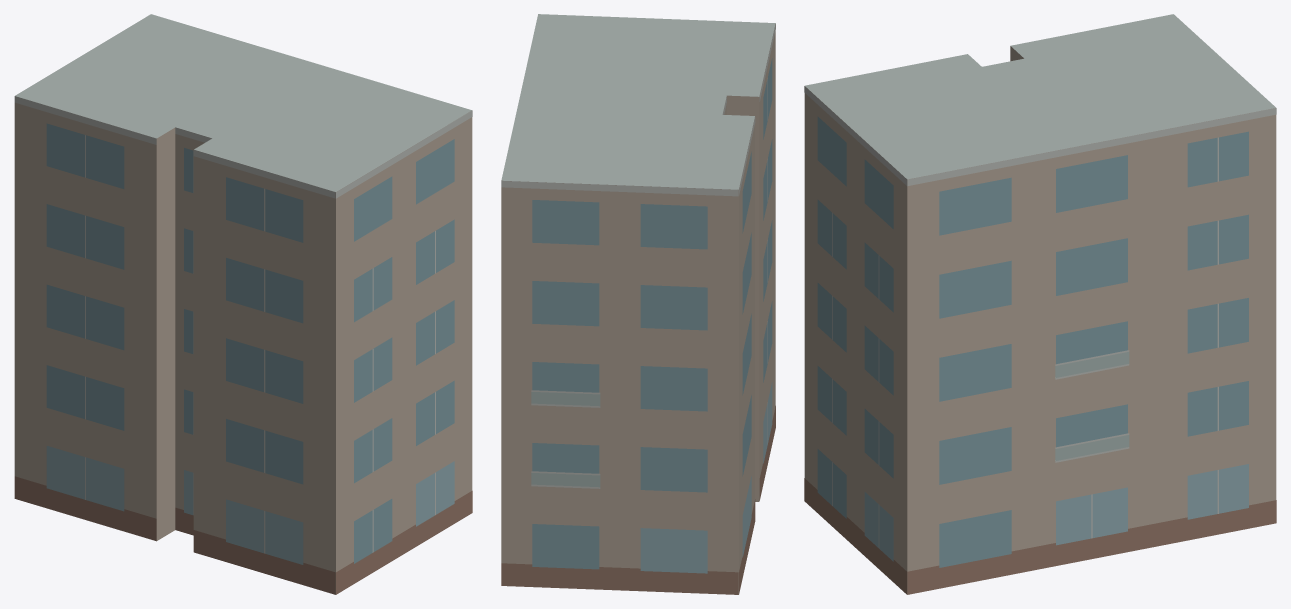
File: survey-upis-32754948.glb
3 views of the same model, side by side, from view 1: azimuth 30°, elevation 25°; view 2: azimuth 150°, elevation 25°; view 3: azimuth 270°, elevation 25° (orthographic). The views are drawn at different scales.
Parts seen in each view (by area): view 1: survey-upis-32754948.tmp; view 2: survey-upis-32754948.tmp; view 3: survey-upis-32754948.tmp.
Part boxes in pixels (x1=…): survey-upis-32754948.tmp: x1=14, y1=14, x2=472, y2=594; survey-upis-32754948.tmp: x1=501, y1=14, x2=775, y2=594; survey-upis-32754948.tmp: x1=804, y1=14, x2=1276, y2=594.
Size of the model in its own units: 12.73 by 14.9 by 15.35.
